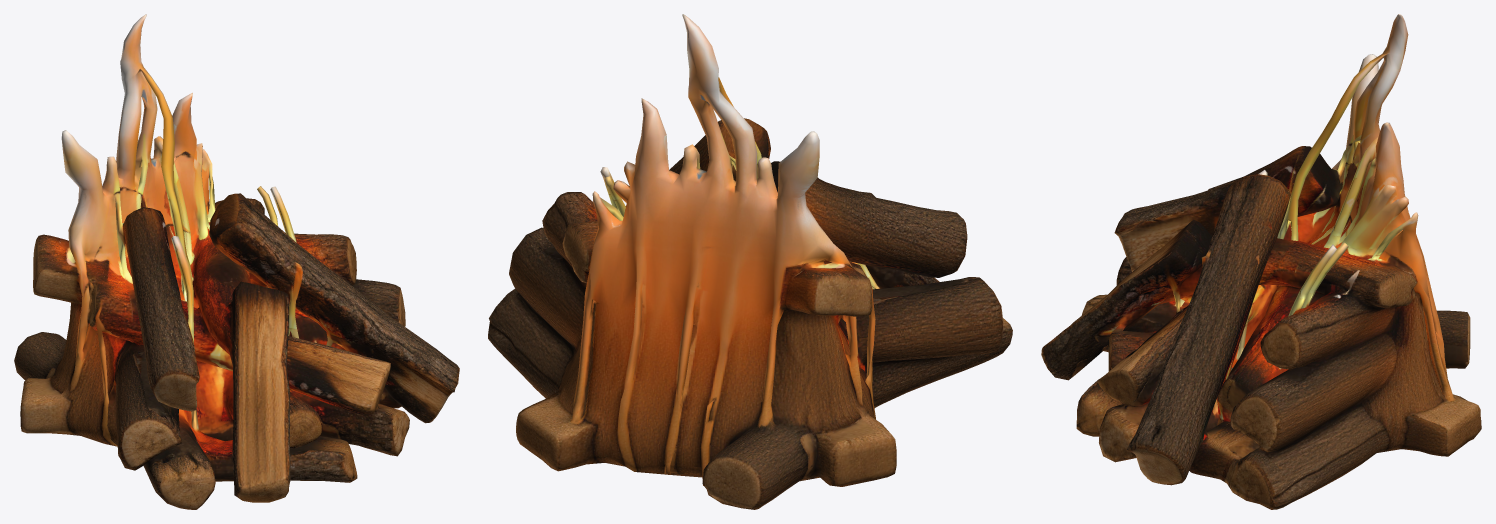
Rendered from tripo_convert_4b243da1-951a-4005-afda-1797e9cf7e50.fbx.
3 renders of one model, left to right at view 1: azimuth 30°, elevation 25°; view 2: azimuth 150°, elevation 25°; view 3: azimuth 270°, elevation 25°, orthographic. The views are drawn at different scales.
Visible parts, largest first — view 1: tripo_node_4b243da1; view 2: tripo_node_4b243da1; view 3: tripo_node_4b243da1.
Part boxes in pixels (x1,y1,x2,y2): tripo_node_4b243da1: (14,14,459,509); tripo_node_4b243da1: (488,14,1012,509); tripo_node_4b243da1: (1041,14,1481,509).
Size of the model in its own units: 0.9706 by 0.931 by 0.9472.
1 material, 1 textured.
